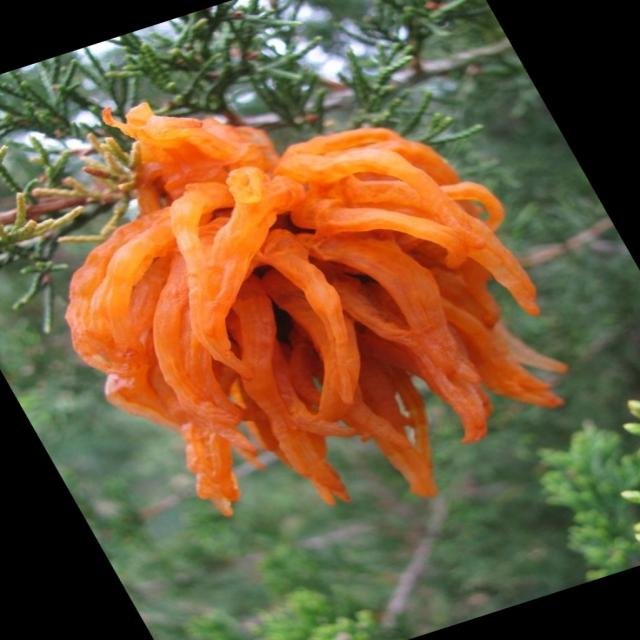Gymnosporangium_Rusts: (60, 101, 568, 516)
